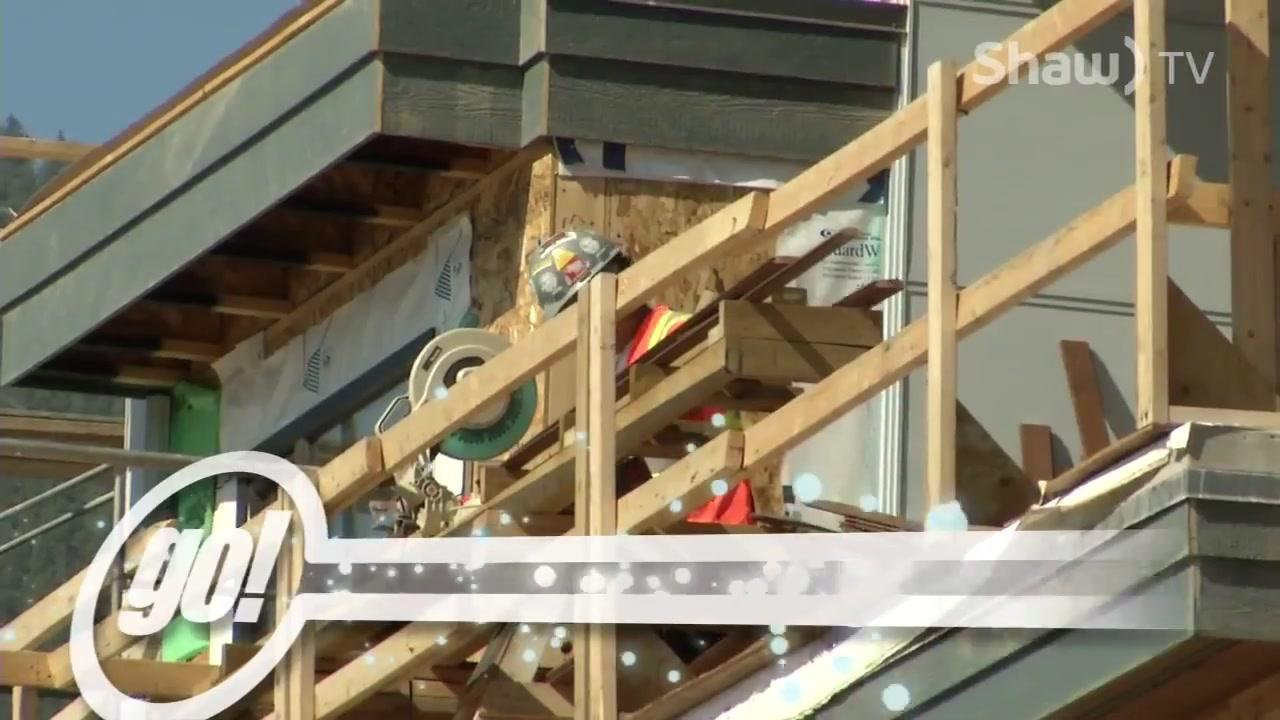vest: (624, 303, 754, 531)
